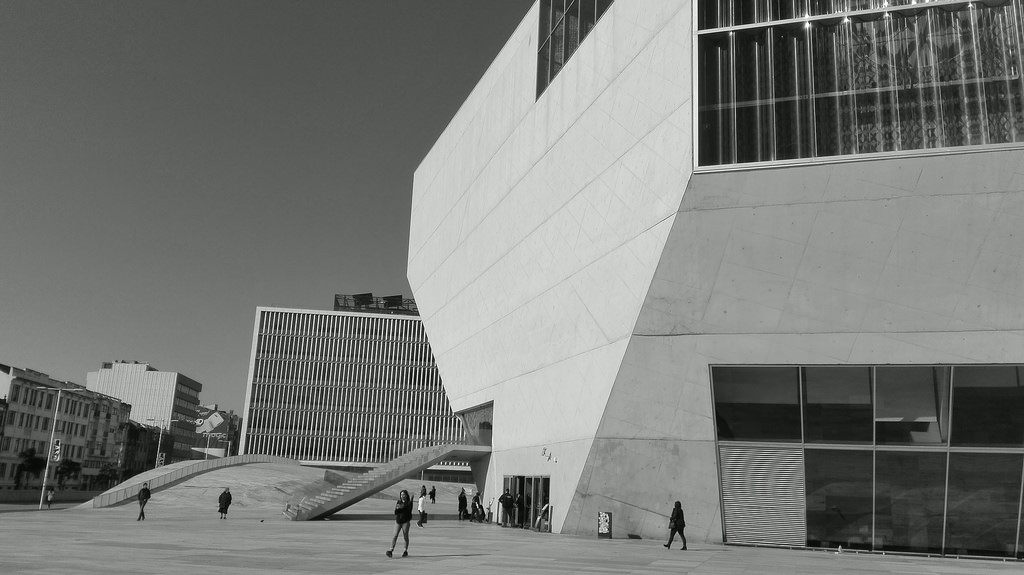musica: (403, 0, 1023, 562)
